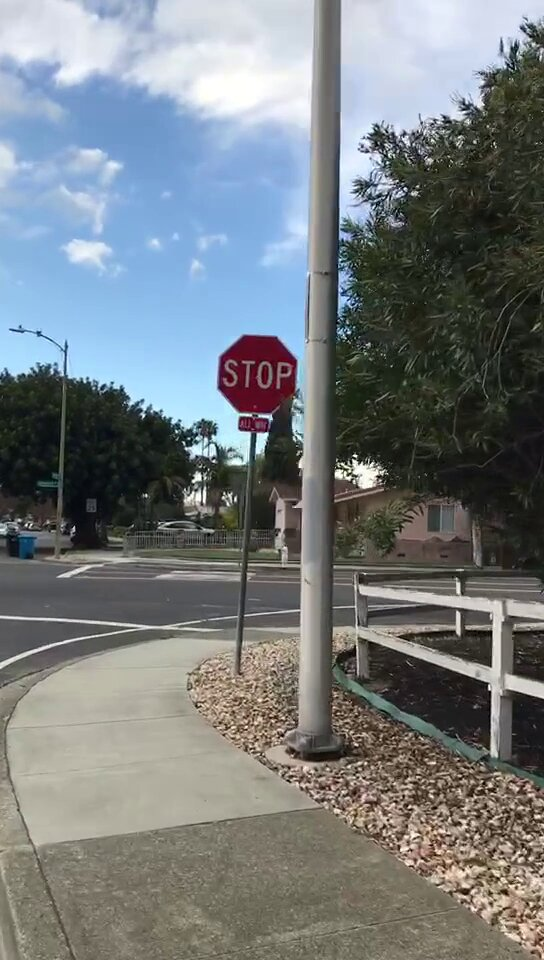stop_sign: (218, 335, 297, 413)
